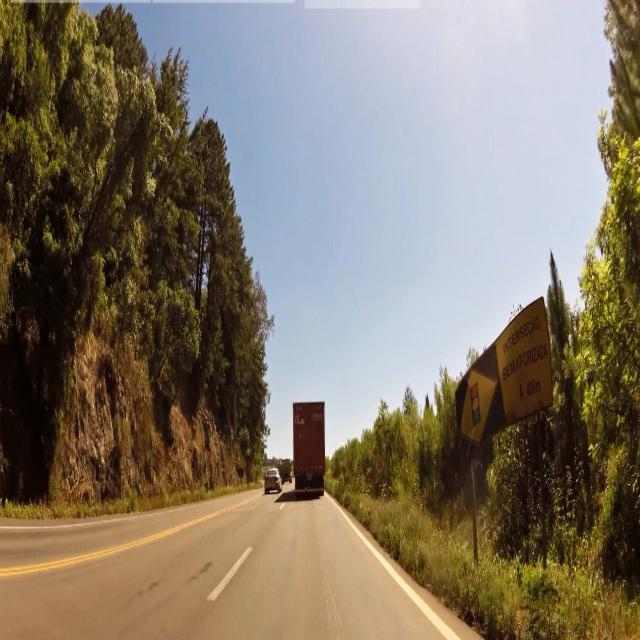A-14: (459, 368, 497, 442)
